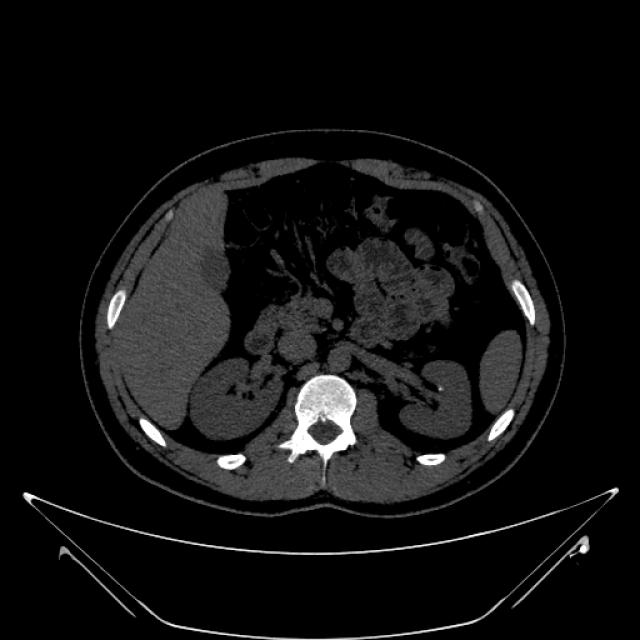kidney: (186, 353, 290, 448), (396, 358, 472, 440)
stone: (436, 382, 446, 393)
